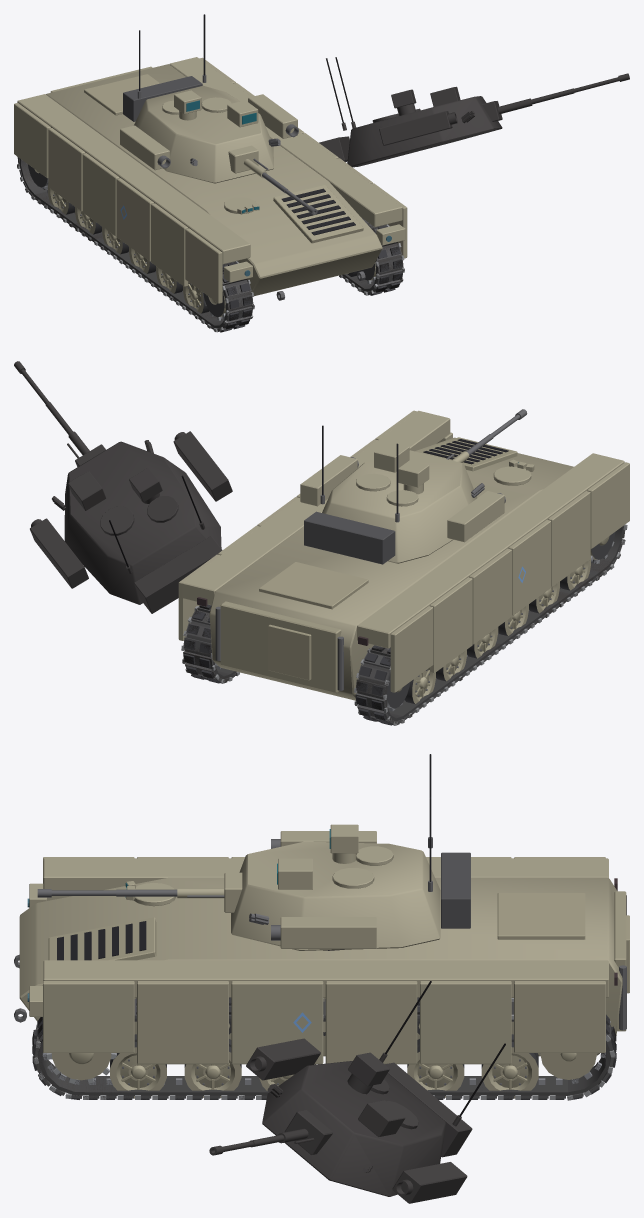
Rendered from ifv__dardo_ifv.glb.
The picture shows the model from 3 angles, top to bottom: view 1: azimuth 30°, elevation 25°; view 2: azimuth 150°, elevation 25°; view 3: azimuth 270°, elevation 25°; orthographic projection. The views are drawn at different scales.
Visible parts, largest first — view 1: Hull_Mesh, Turret_Mesh, Wreck, Track_L_Mesh, Track_R_Mesh, Gun_Mesh, Wheel_L5_Mesh; view 2: Hull_Mesh, Wreck, Turret_Mesh, Track_L_Mesh, Track_R_Mesh, Wheel_L0_Mesh, Gun_Mesh; view 3: Hull_Mesh, Wreck, Turret_Mesh, Track_R_Mesh, Gun_Mesh, Wheel_R0_Mesh, Wheel_R5_Mesh, Wheel_R4_Mesh, Sprocket_R_Mesh, Wheel_R1_Mesh, Idler_R_Mesh.
Boxes of the visible parts, x1,y1,x2,y2 form: Hull_Mesh: (14, 57, 407, 303); Turret_Mesh: (120, 14, 298, 183); Wreck: (17, 57, 629, 332); Track_L_Mesh: (17, 157, 254, 332); Track_R_Mesh: (339, 217, 404, 295); Gun_Mesh: (228, 145, 317, 214); Wheel_L5_Mesh: (183, 282, 209, 313); Hull_Mesh: (178, 410, 629, 700); Wreck: (14, 361, 626, 723); Turret_Mesh: (300, 425, 505, 564); Track_L_Mesh: (354, 524, 627, 725); Track_R_Mesh: (181, 604, 239, 683); Wheel_L0_Mesh: (404, 667, 435, 703); Gun_Mesh: (446, 409, 527, 462); Hull_Mesh: (14, 857, 629, 1064); Wreck: (32, 949, 616, 1203); Turret_Mesh: (231, 754, 470, 950); Track_R_Mesh: (32, 997, 616, 1100); Gun_Mesh: (37, 872, 242, 912); Wheel_R0_Mesh: (481, 1034, 538, 1098); Wheel_R5_Mesh: (110, 1034, 166, 1098); Wheel_R4_Mesh: (184, 1039, 241, 1097); Sprocket_R_Mesh: (46, 1053, 116, 1083); Wheel_R1_Mesh: (407, 1039, 464, 1097); Idler_R_Mesh: (540, 1053, 596, 1079).
Size of what is drawn, in the model's own units: 8.59 by 3.35 by 7.02.
